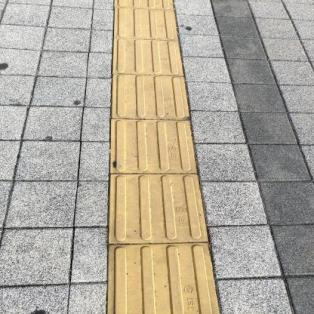Podoctatil: (100, 0, 232, 313)
